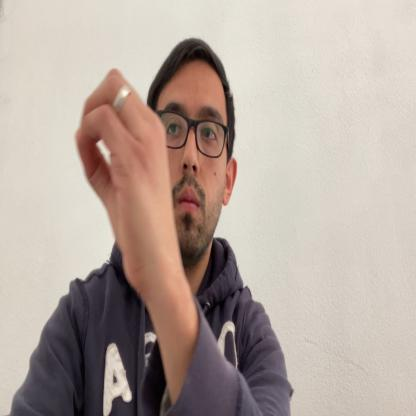O: (75, 69, 176, 294)
